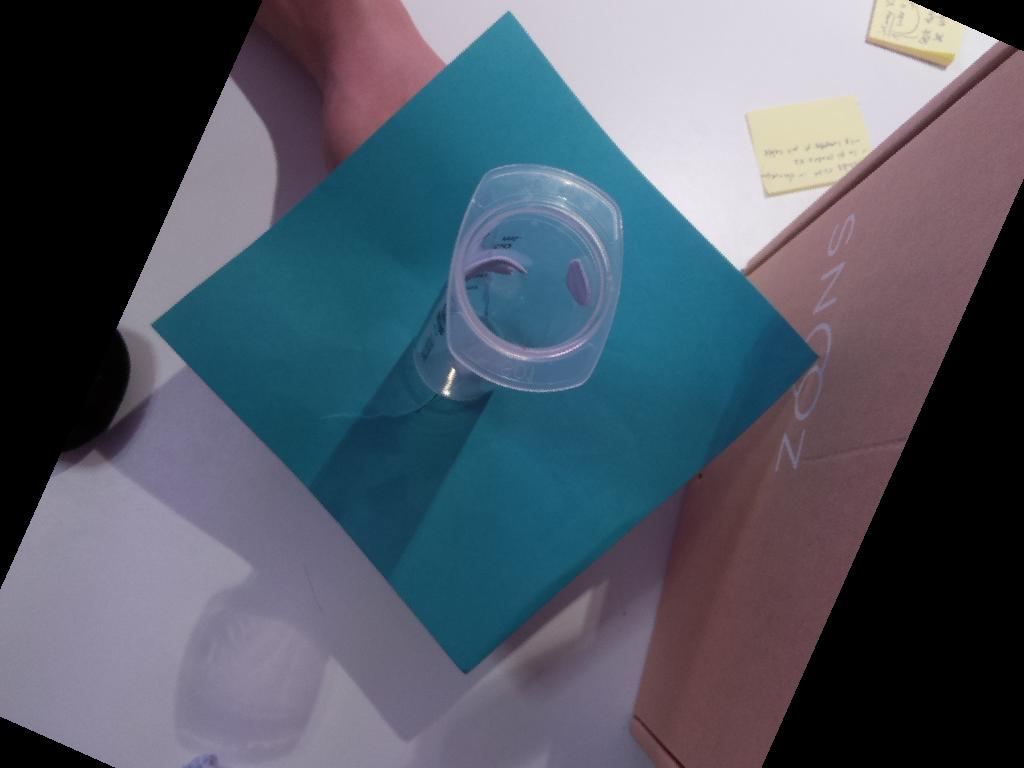dirty: (445, 163, 624, 395)
